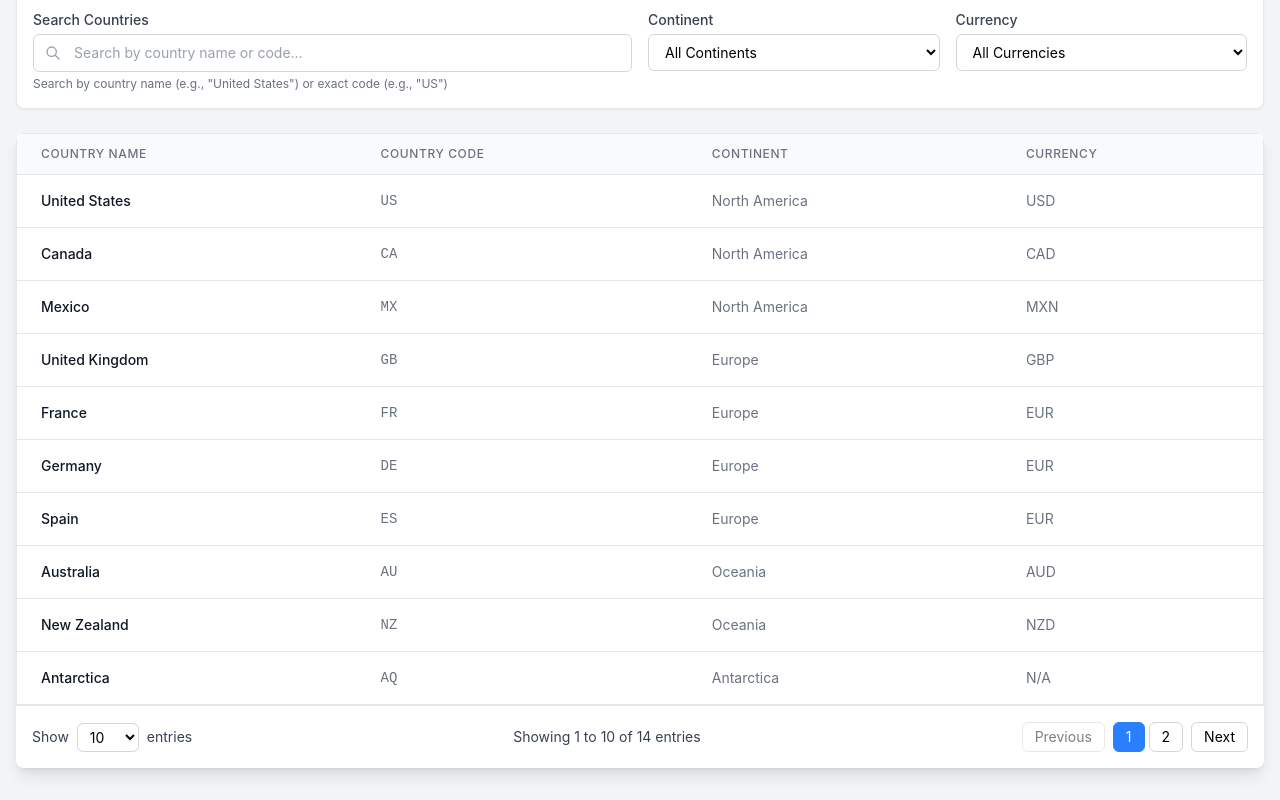
Scenario: App: paging › moves to the next page and records it in the URL
(page scrolled)
Click the button "Next". click: (1220, 737)
box: top-left (1191, 722), bottom-right (1248, 752)
(page scrolled)
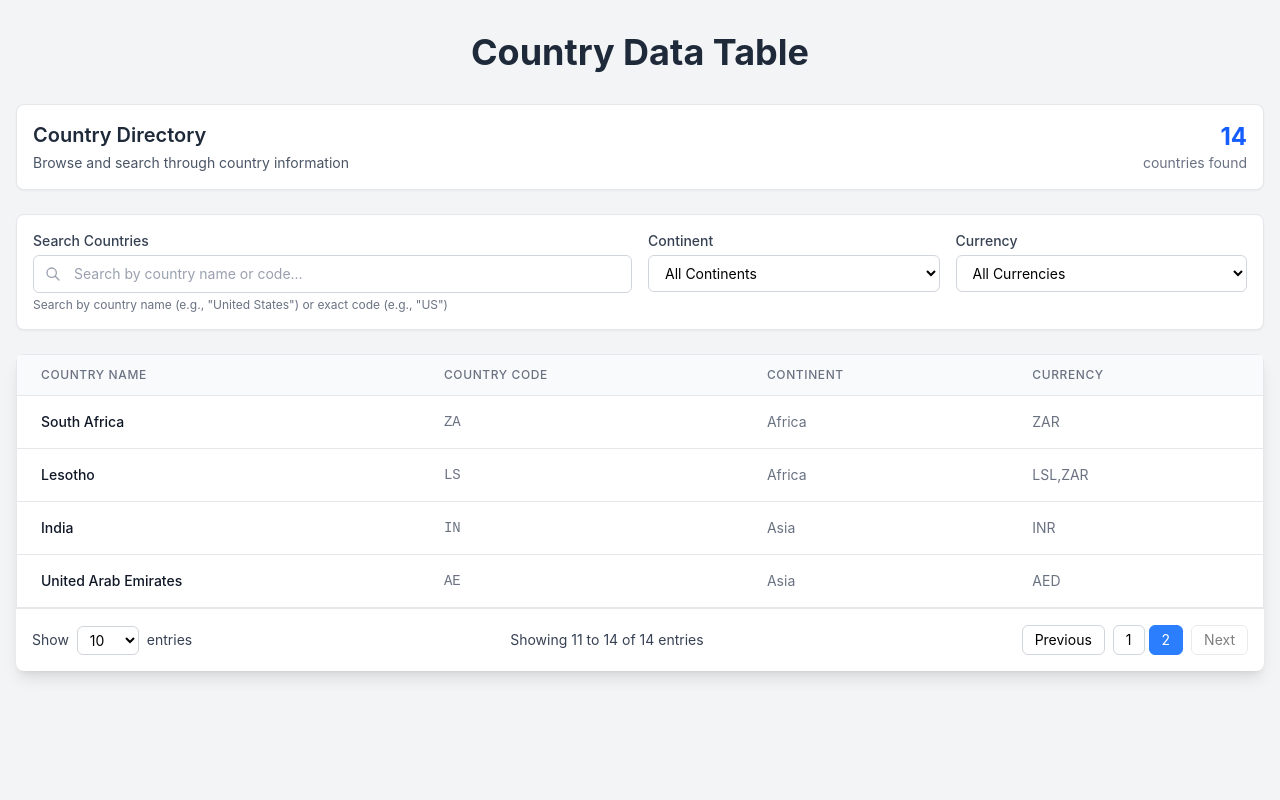
Now the text "Showing 11 to 14 of 14 entries" is shown, box top-left (510, 631), bottom-right (704, 648)
